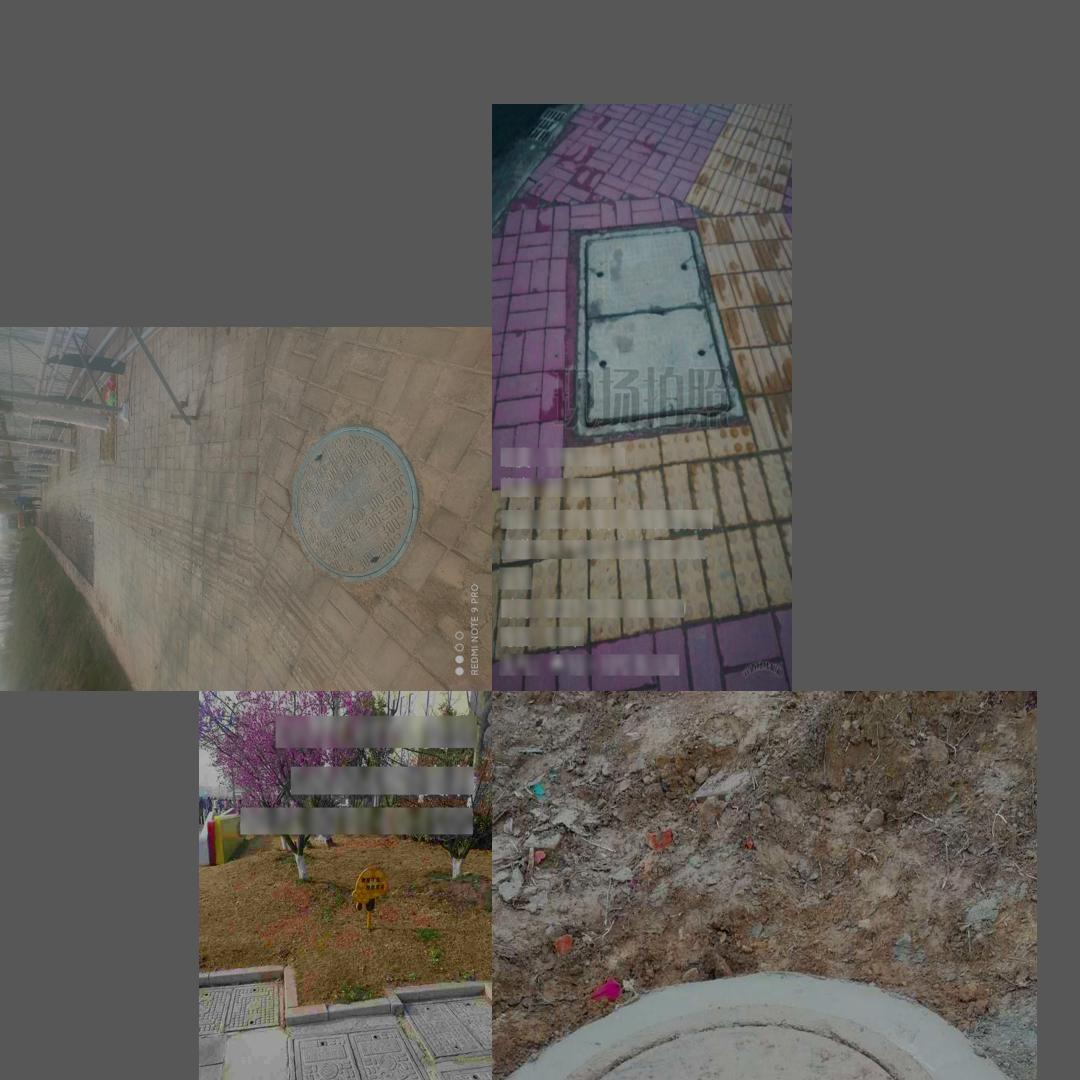good: (492, 1003, 965, 1080), (578, 224, 744, 433), (293, 425, 419, 581), (287, 1021, 439, 1080), (402, 996, 491, 1060), (199, 977, 281, 1044), (428, 1067, 491, 1080)
